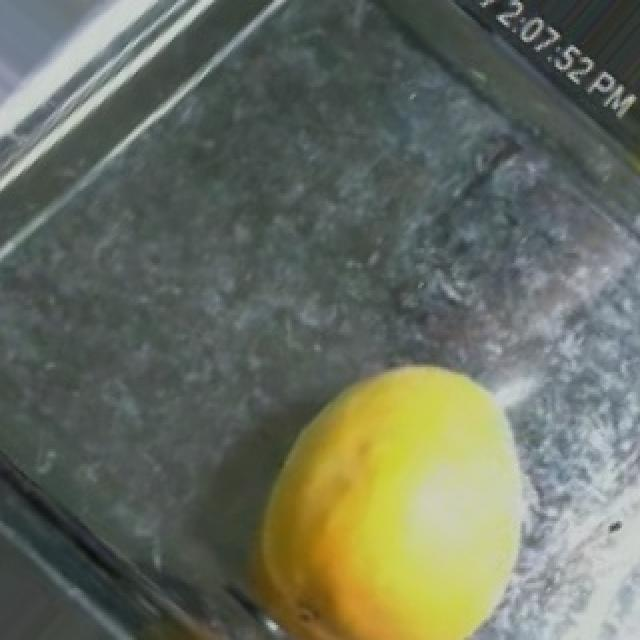fruit: (198, 305, 588, 640)
